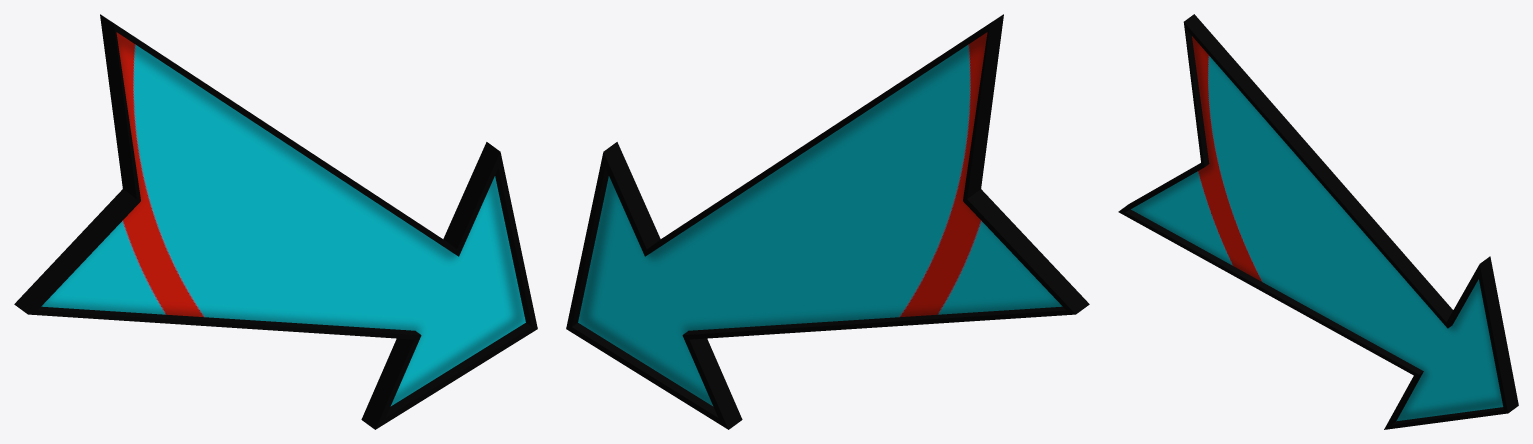
Rendered from MOD_Arrow3.FBX.
3 views of the same model, side by side, from view 1: azimuth 30°, elevation 25°; view 2: azimuth 150°, elevation 25°; view 3: azimuth 330°, elevation 25° (orthographic). The views are drawn at different scales.
Parts seen in each view (by area): view 1: MOD_Arrow3; view 2: MOD_Arrow3; view 3: MOD_Arrow3.
Boxes of the visible parts, x1=… form: MOD_Arrow3: x1=14, y1=14, x2=537, y2=429; MOD_Arrow3: x1=566, y1=14, x2=1089, y2=429; MOD_Arrow3: x1=1118, y1=14, x2=1518, y2=429.
Bounding box in the file's own units: 166 × 146 × 7.83.
Materials: 1 (1 with a texture image).
